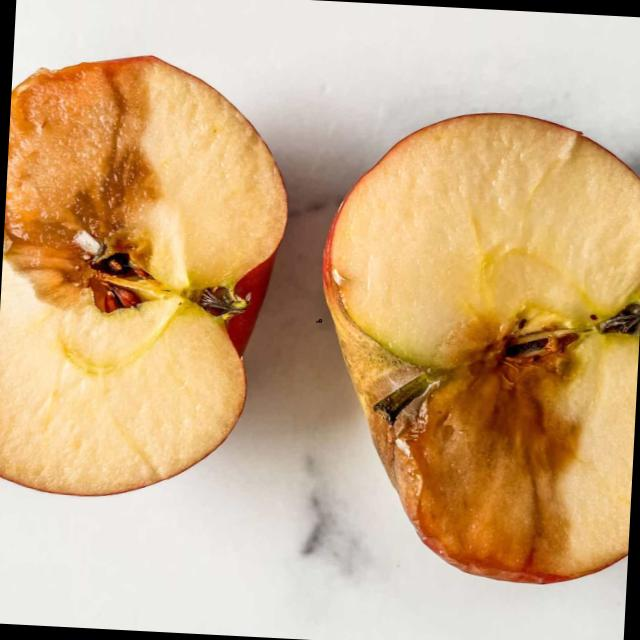apple_fruit: (310, 90, 640, 604), (0, 44, 308, 527)
